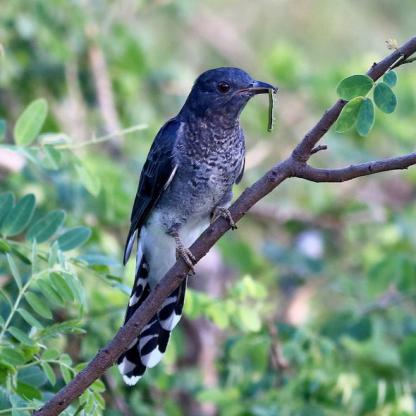Burung: (118, 66, 277, 386)
